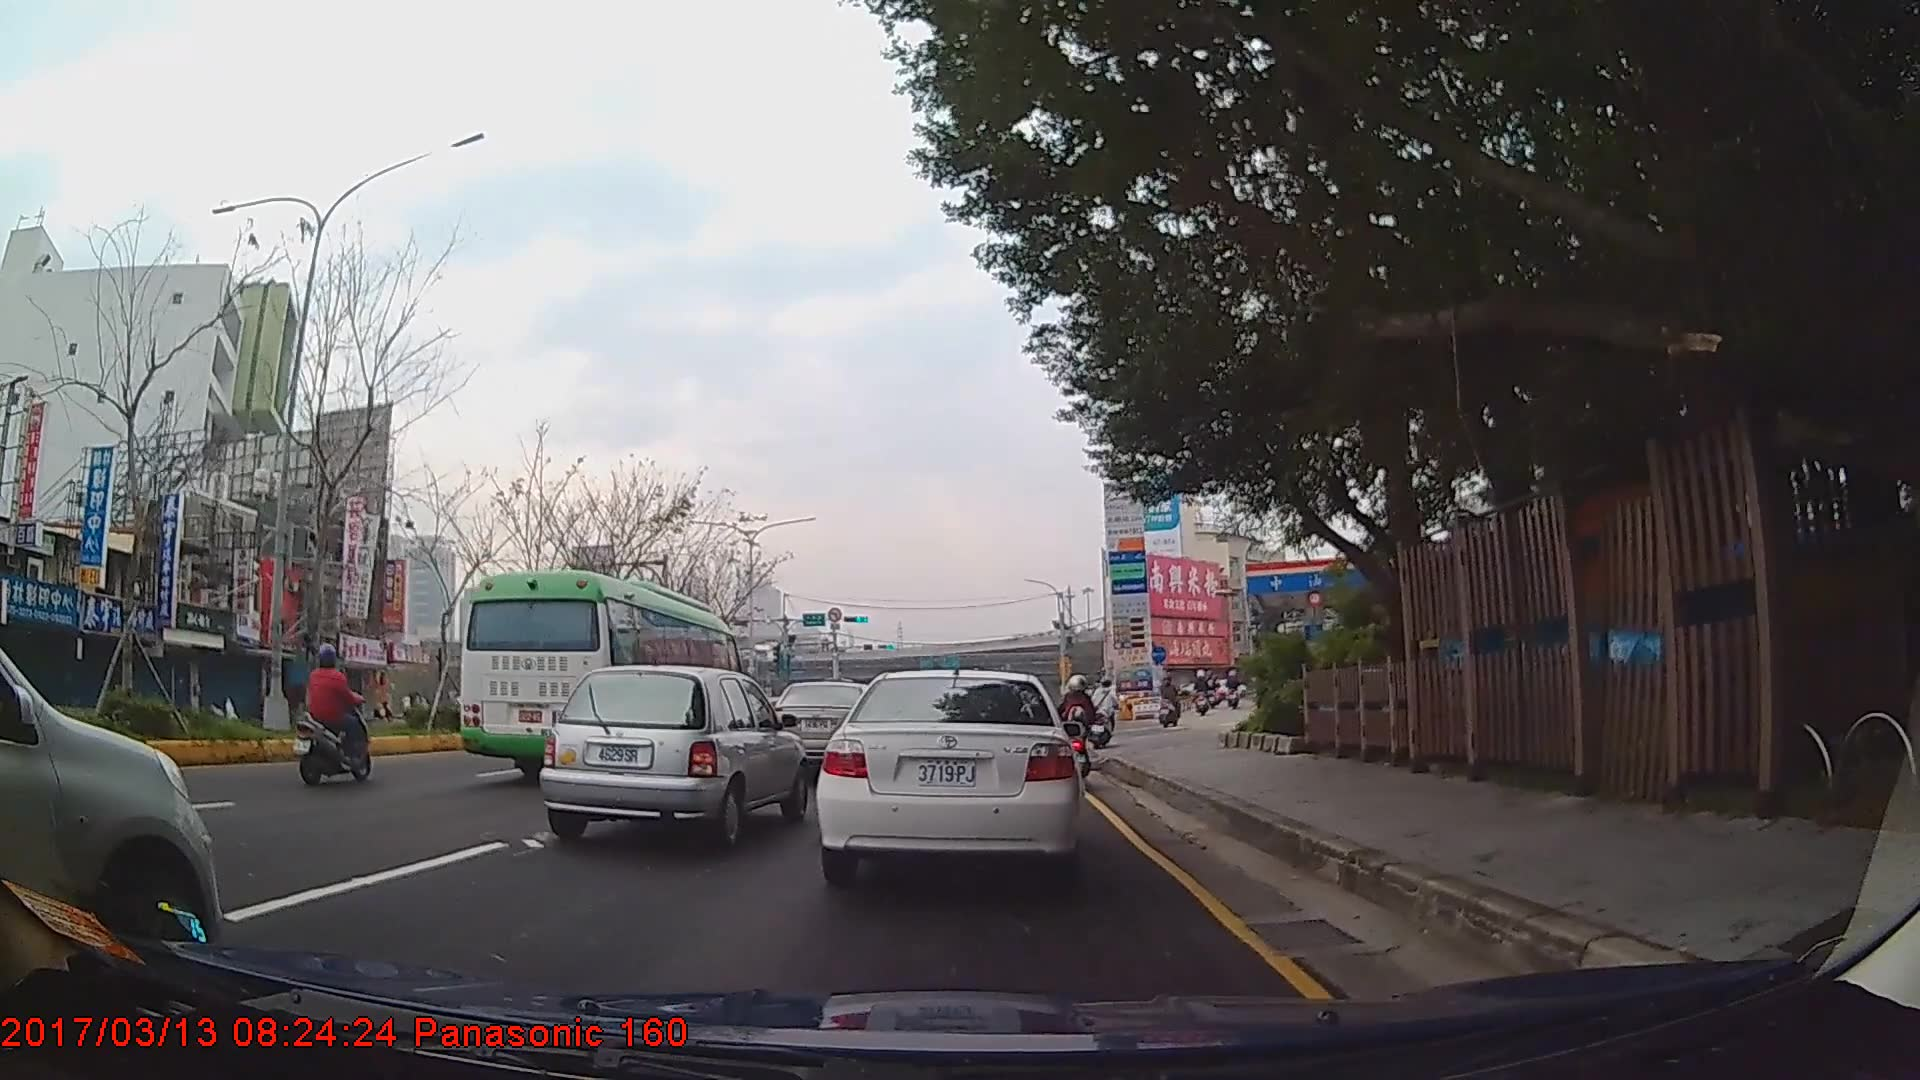rider: (290, 641, 372, 791), (1062, 673, 1105, 784), (1091, 675, 1122, 751), (1160, 672, 1181, 727), (1192, 669, 1212, 718)
vehicle: (455, 566, 751, 791), (815, 665, 1084, 881), (539, 661, 806, 850), (768, 681, 885, 775)
